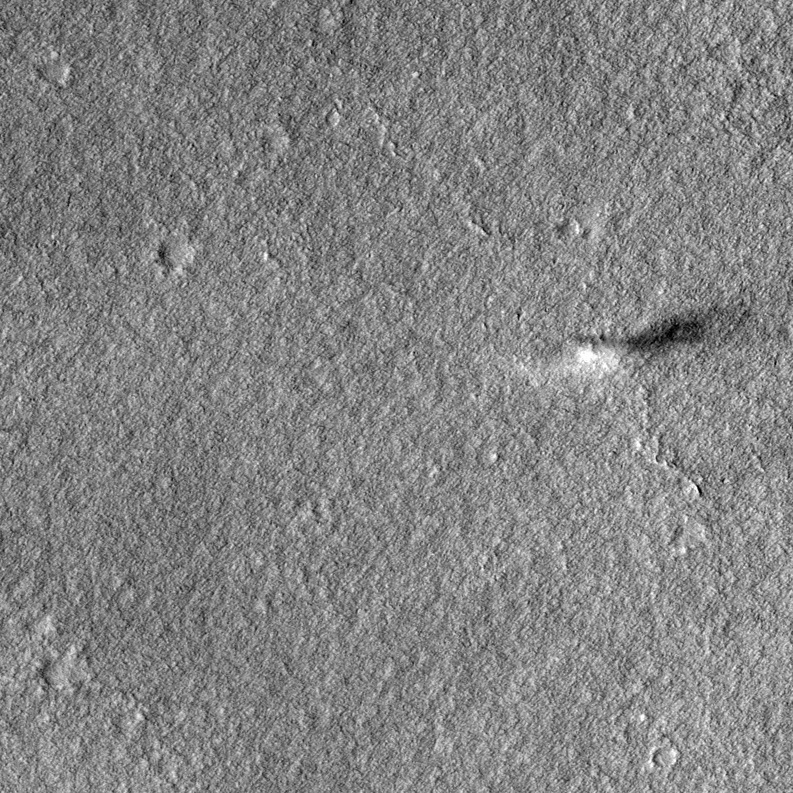dust_devil: (563, 303, 736, 379)
